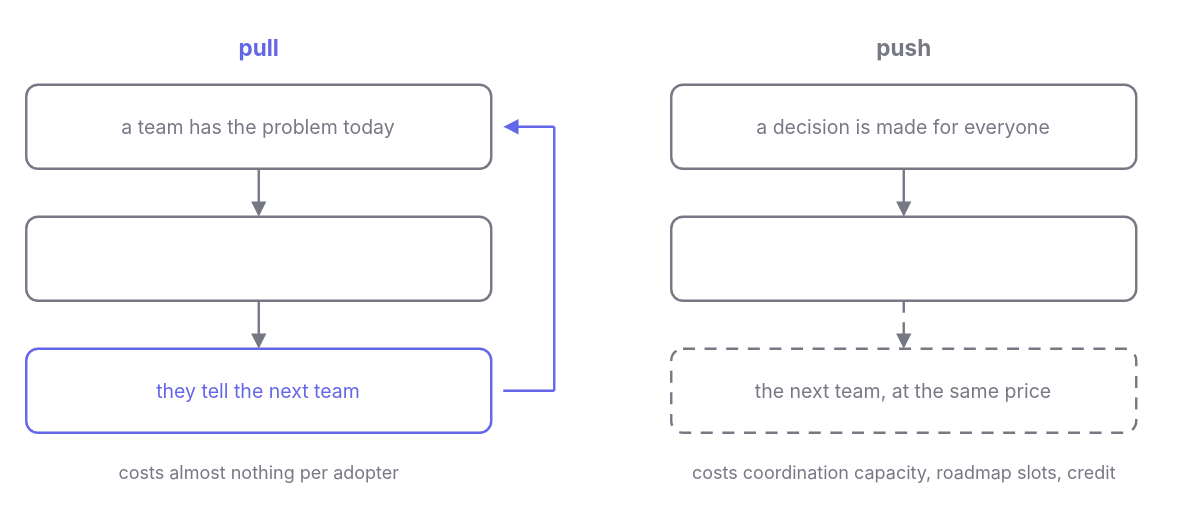
Image size: 1182x515. Some labels were removed from this diagram. Here are the shapes that lost their labels. From the top down, the centre of each, then its label:
At [258,258]: "the first call costs less than building their own".
At [903,258]: "a plan carries it into teams that did not ask".
